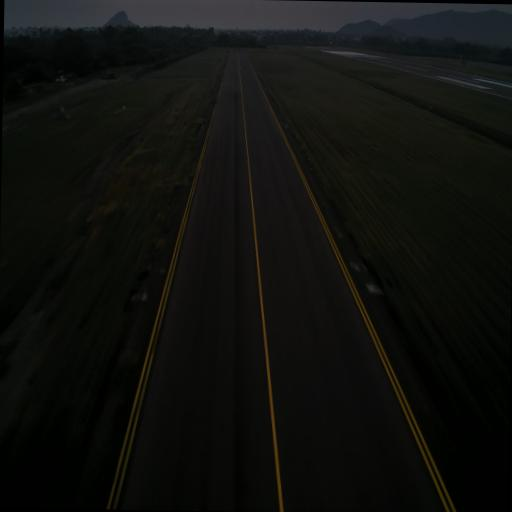on: (142, 286, 148, 300), (369, 279, 376, 290)
